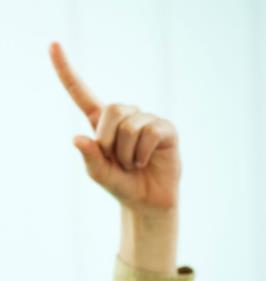up: (38, 36, 191, 210)
